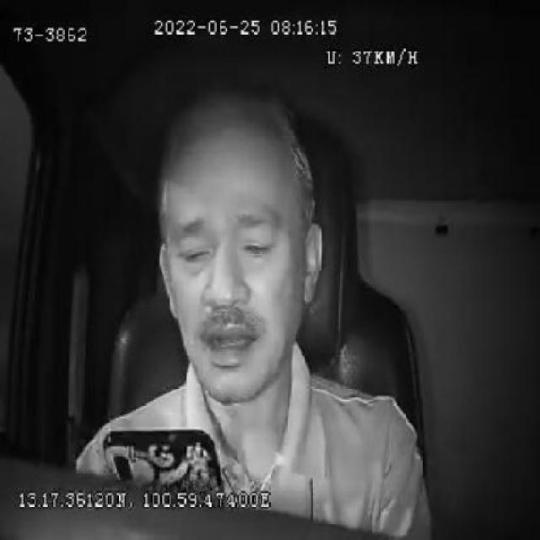phone: (102, 425, 224, 490)
